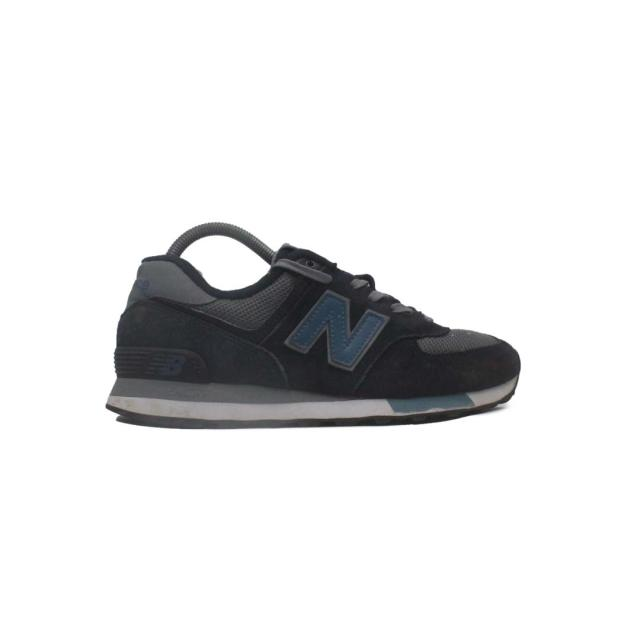heel: (115, 226, 157, 377)
midsole: (116, 375, 532, 424)
uppersole: (158, 236, 546, 393)
